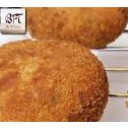cutlet: (1, 40, 108, 122), (26, 5, 128, 47)
